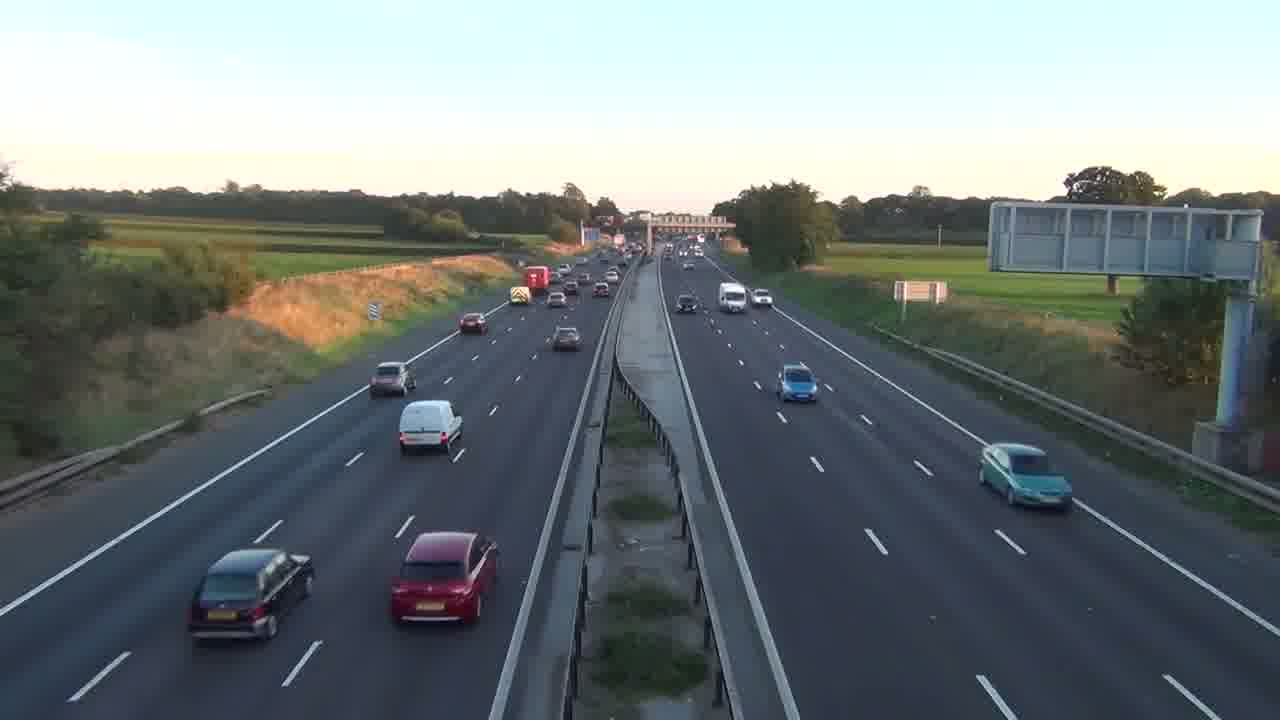car: (186, 547, 315, 643), (388, 529, 500, 626), (977, 441, 1074, 512), (777, 362, 819, 403), (368, 361, 408, 398), (717, 281, 748, 313), (553, 325, 582, 352), (458, 312, 486, 335), (750, 287, 773, 309)
